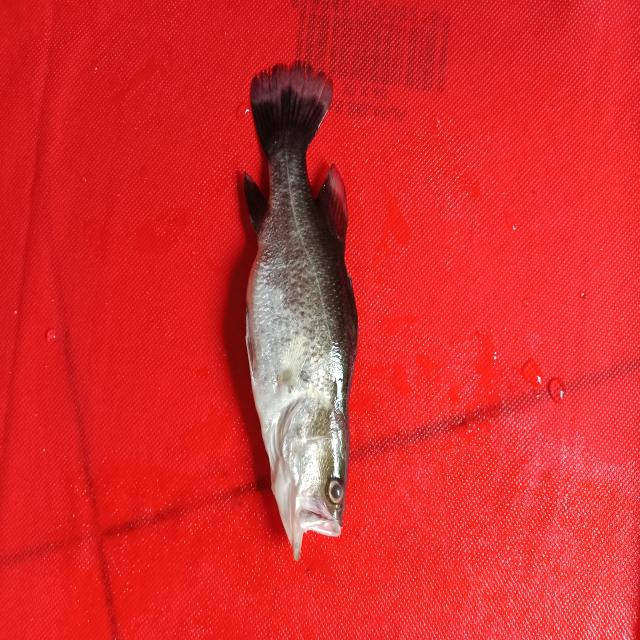ikan: (223, 47, 384, 566)
